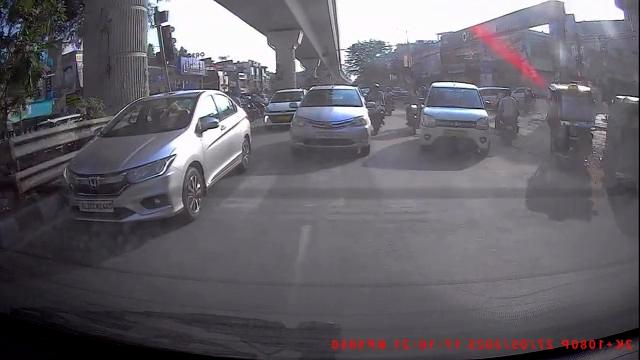passenger_without_helmet: (493, 87, 523, 148)
